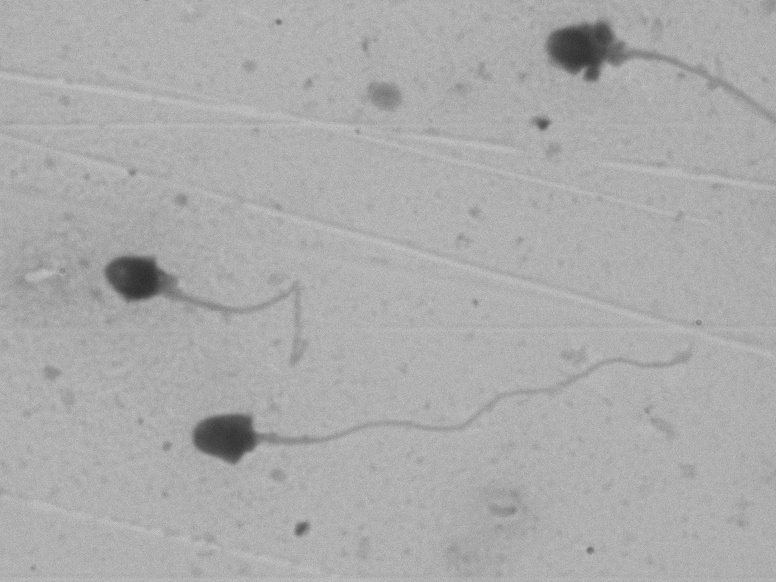Abnormal: (169, 374, 660, 477), (85, 233, 325, 367), (515, 13, 727, 141)
